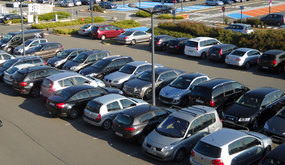Car: (143, 105, 222, 164), (189, 127, 273, 165), (220, 85, 285, 133), (112, 104, 178, 145), (47, 84, 124, 118), (83, 93, 150, 130), (188, 77, 250, 115), (11, 65, 77, 97), (123, 67, 184, 100), (159, 72, 210, 107), (103, 61, 164, 89), (40, 73, 106, 98), (79, 55, 135, 80), (62, 49, 110, 73), (0, 56, 46, 80), (0, 30, 45, 54), (47, 47, 90, 69), (185, 36, 223, 58), (225, 48, 263, 70), (264, 106, 285, 144), (3, 63, 36, 85), (257, 50, 285, 74), (13, 38, 48, 55), (258, 143, 285, 165), (22, 42, 64, 56), (207, 44, 239, 62), (91, 24, 125, 40), (118, 29, 151, 45), (149, 35, 176, 51), (167, 38, 189, 53), (260, 14, 284, 27), (224, 24, 254, 34), (0, 50, 15, 66), (77, 24, 95, 37), (153, 4, 174, 12), (99, 2, 118, 9), (4, 14, 26, 20), (60, 1, 75, 7), (205, 0, 223, 5), (73, 0, 82, 6), (221, 0, 234, 4), (81, 0, 90, 4)
